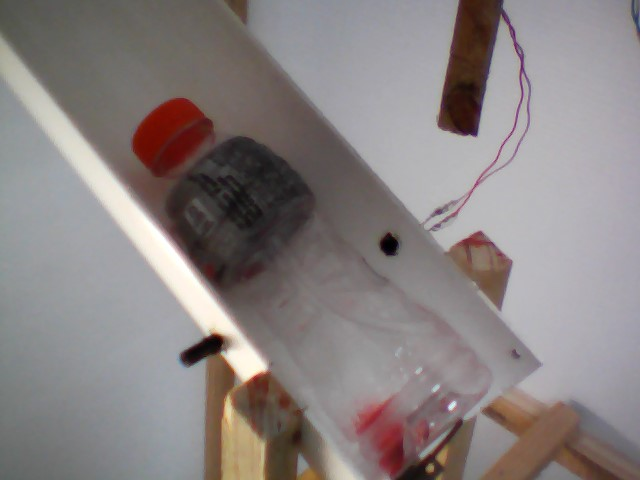plastico: (126, 96, 502, 480)
